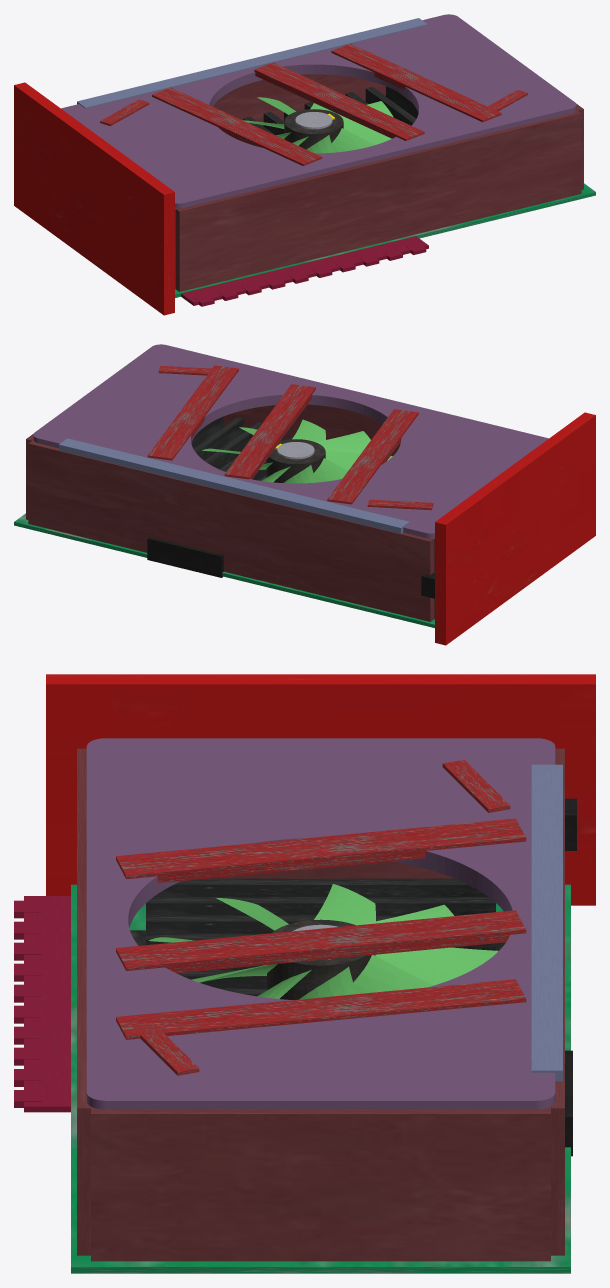
Rendered from Technology_Graphics_Card__0000.glb.
The picture shows the model from 3 angles, top to bottom: view 1: azimuth 30°, elevation 25°; view 2: azimuth 150°, elevation 25°; view 3: azimuth 270°, elevation 25°; orthographic projection. The views are drawn at different scales.
Visible parts, largest first — view 1: card_body::skirt_wall_bottom, card_body::shroud_faceplate, card_body::io_bracket_plate, card_body::rgb_diffuser_strip, card_body::accent_strap_1, card_body::skirt_wall_top, card_body::accent_strap_2, card_body::accent_strap_0, card_body::pcie_contact_bar, fan_0::rotor_blades, card_body::pcb, fan_0::hub_ring (+4 smaller); view 2: card_body::skirt_wall_top, card_body::shroud_faceplate, card_body::io_bracket_plate, card_body::rgb_diffuser_strip, fan_0::rotor_blades, card_body::accent_strap_1, card_body::accent_strap_0, card_body::accent_strap_2, card_body::skirt_wall_bottom, card_body::pcb, card_body::power_connector_8pin_0, fan_0::hub_ring (+6 smaller); view 3: card_body::shroud_faceplate, card_body::skirt_wall_tail, card_body::io_bracket_plate, card_body::accent_strap_1, card_body::accent_strap_0, card_body::pcb, card_body::rgb_diffuser_strip, card_body::accent_strap_2, fan_0::rotor_blades, card_body::pcie_contact_bar, card_body::skirt_wall_bottom, card_body::cooling_fin_0 (+10 smaller).
Part boxes in pixels (bbox=[...]): card_body::skirt_wall_bottom: bbox=[175, 110, 581, 291]; card_body::shroud_faceplate: bbox=[61, 14, 576, 208]; card_body::io_bracket_plate: bbox=[14, 82, 174, 315]; card_body::rgb_diffuser_strip: bbox=[77, 18, 427, 108]; card_body::accent_strap_1: bbox=[254, 62, 424, 140]; card_body::skirt_wall_top: bbox=[213, 74, 385, 125]; card_body::accent_strap_2: bbox=[331, 43, 501, 122]; card_body::accent_strap_0: bbox=[152, 87, 322, 165]; card_body::pcie_contact_bar: bbox=[181, 236, 428, 305]; fan_0::rotor_blades: bbox=[242, 97, 393, 153]; card_body::pcb: bbox=[175, 183, 595, 297]; fan_0::hub_ring: bbox=[284, 109, 343, 149]; card_body::skirt_wall_top: bbox=[28, 440, 434, 621]; card_body::shroud_faceplate: bbox=[33, 344, 548, 538]; card_body::io_bracket_plate: bbox=[435, 412, 595, 645]; card_body::rgb_diffuser_strip: bbox=[59, 438, 409, 533]; fan_0::rotor_blades: bbox=[202, 419, 392, 483]; card_body::accent_strap_1: bbox=[224, 384, 315, 479]; card_body::accent_strap_0: bbox=[327, 409, 418, 504]; card_body::accent_strap_2: bbox=[147, 365, 238, 460]; card_body::skirt_wall_bottom: bbox=[224, 404, 400, 455]; card_body::pcb: bbox=[14, 513, 434, 627]; card_body::power_connector_8pin_0: bbox=[147, 537, 223, 577]; fan_0::hub_ring: bbox=[266, 439, 325, 482]; card_body::shroud_faceplate: bbox=[86, 738, 555, 1109]; card_body::skirt_wall_tail: bbox=[91, 1106, 550, 1261]; card_body::io_bracket_plate: bbox=[46, 674, 595, 905]; card_body::accent_strap_1: bbox=[116, 910, 526, 973]; card_body::accent_strap_0: bbox=[116, 818, 526, 883]; card_body::pcb: bbox=[71, 884, 570, 1273]; card_body::rgb_diffuser_strip: bbox=[531, 764, 562, 1081]; card_body::accent_strap_2: bbox=[116, 979, 526, 1039]; fan_0::rotor_blades: bbox=[148, 884, 497, 999]; card_body::pcie_contact_bar: bbox=[24, 896, 70, 1112]; card_body::skirt_wall_bottom: bbox=[77, 748, 94, 1255]; card_body::cooling_fin_0: bbox=[154, 878, 487, 896].
Size of the model in its own units: 0.236 by 0.062 by 0.1478.
15 materials, 13 textured.
